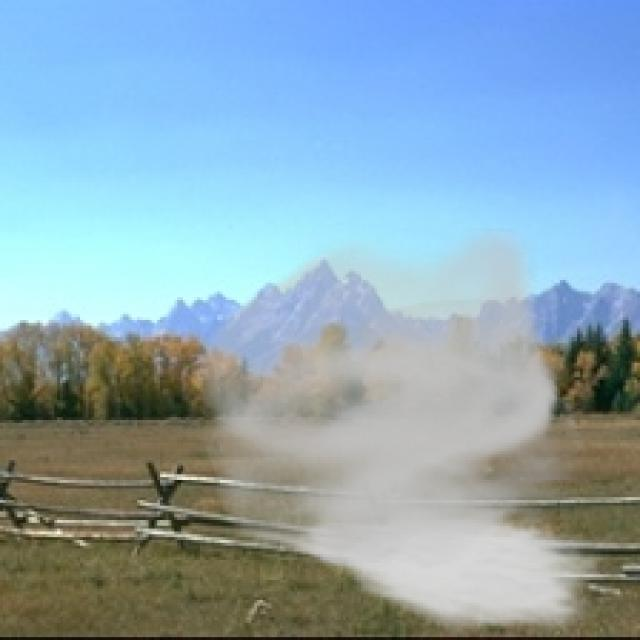smoke: (183, 229, 608, 637)
